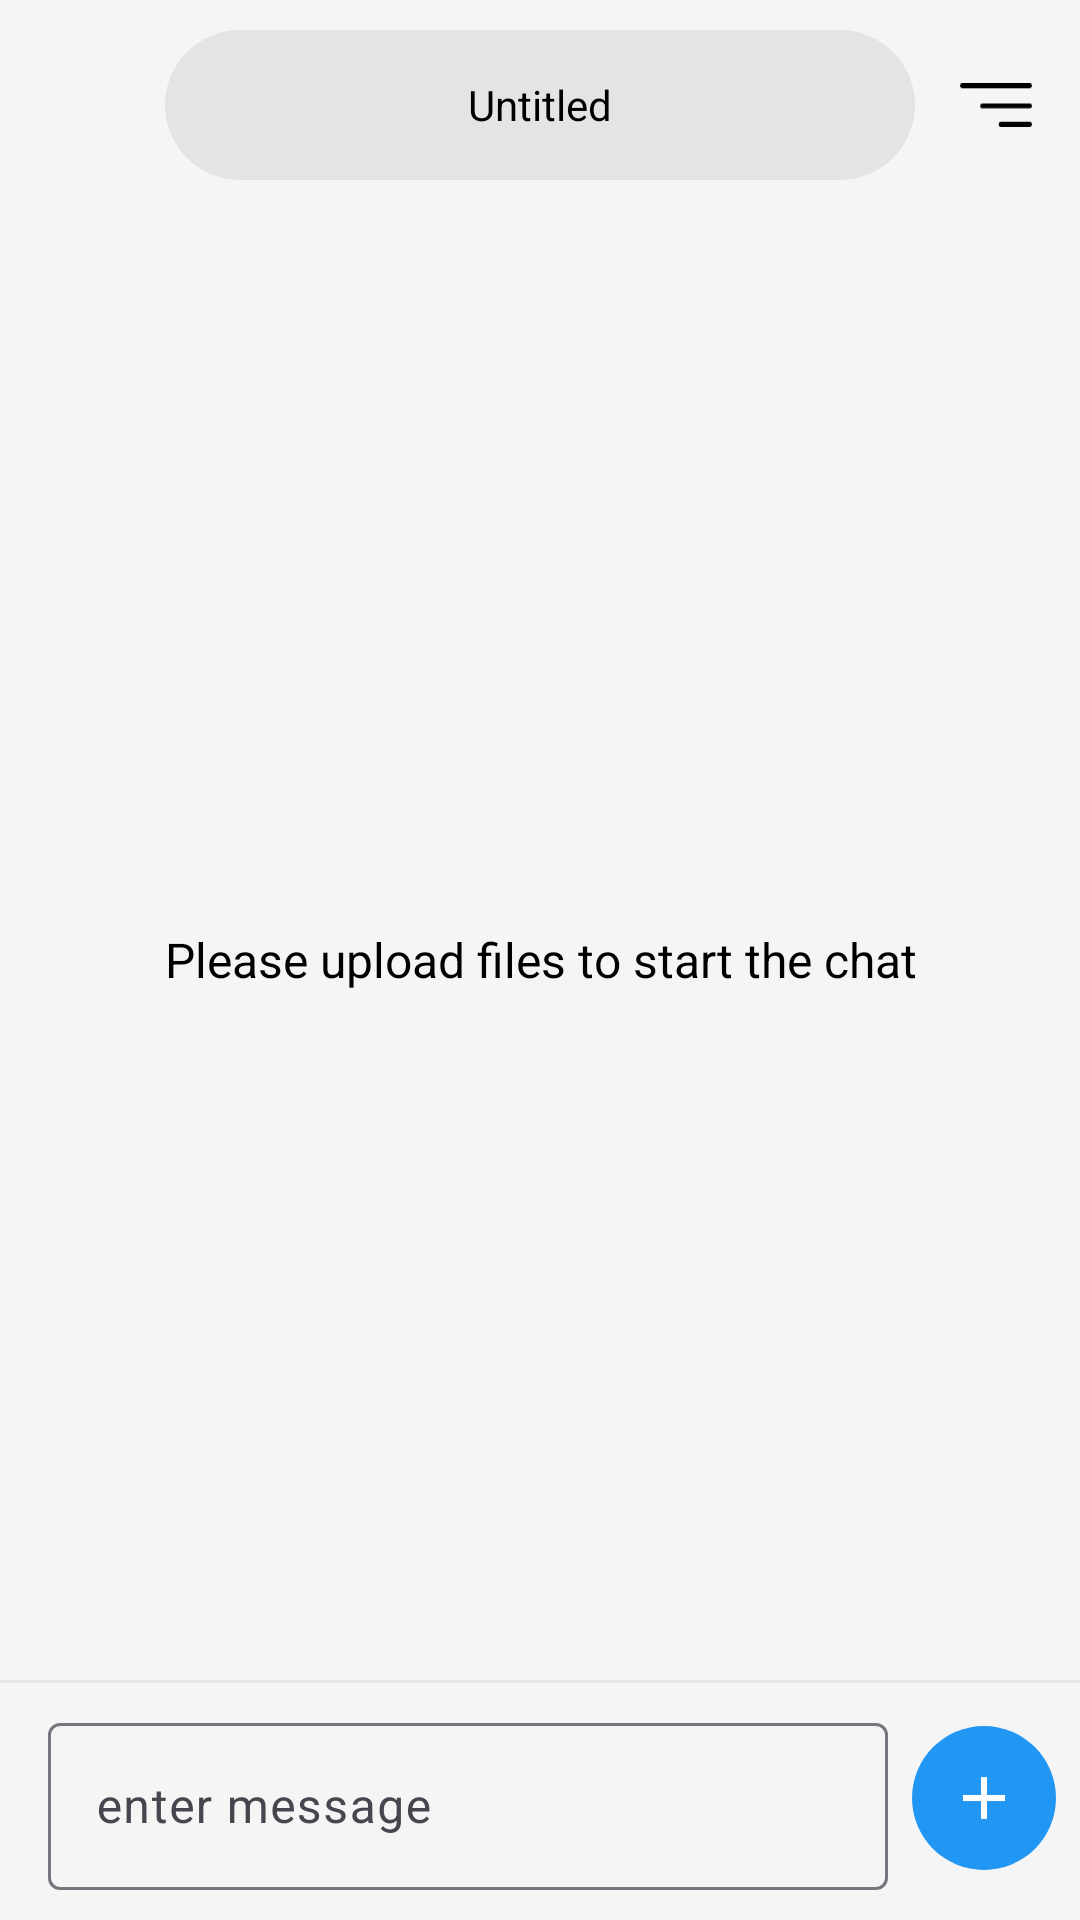

Icons on this 1080 x 1920 Android screen, each with the point to tap as (x=x, y=y):
plus: (x=984, y=1798)
right navigation drawer: (x=996, y=105)
